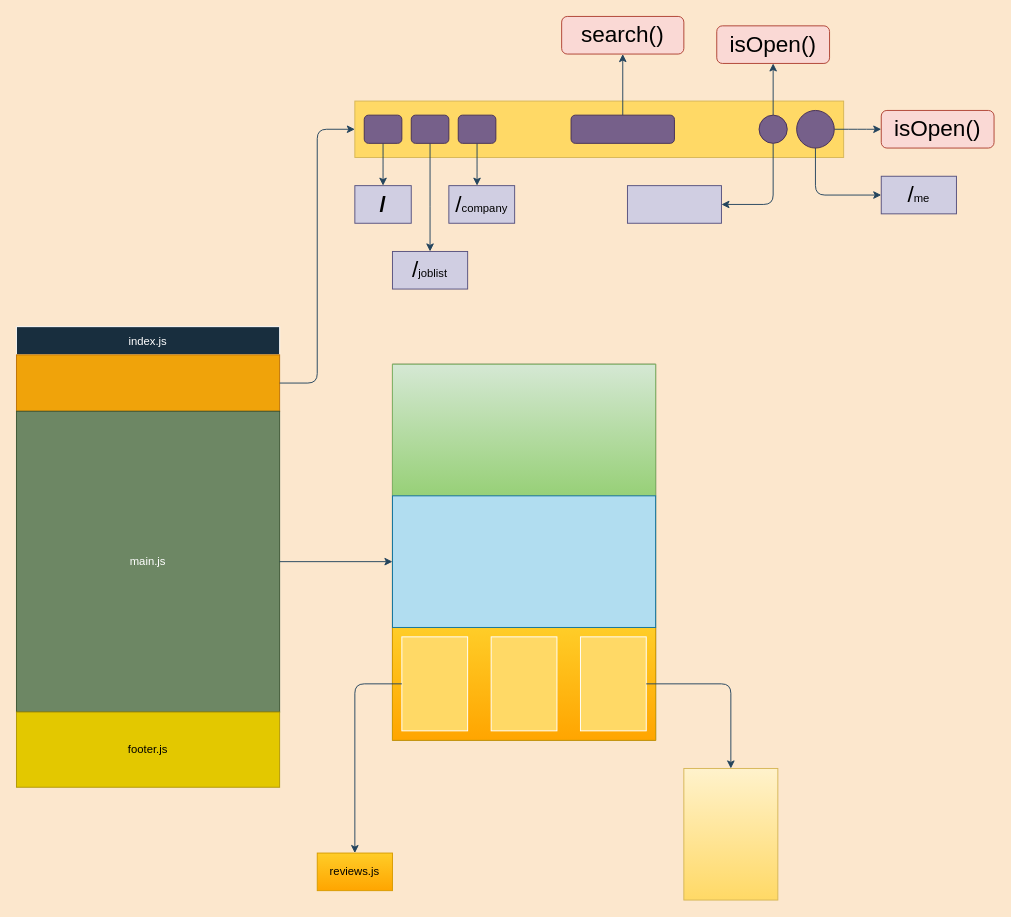
Some shapes in this 1011 by 917 pixel diagram are drawn without their labels. Each missing label, with the centre of its shape:
"/ notification" goes at point (674, 204).
"banner.js" goes at point (524, 561).
"jumbotron.js" goes at point (524, 429).
"navbar.js" goes at point (148, 382).
"review.js" goes at point (730, 834).
